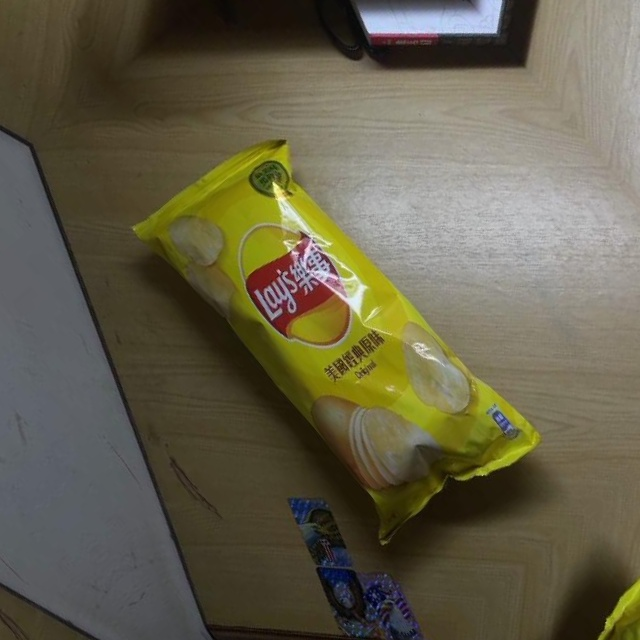Lay-s-original: (118, 107, 550, 569)
